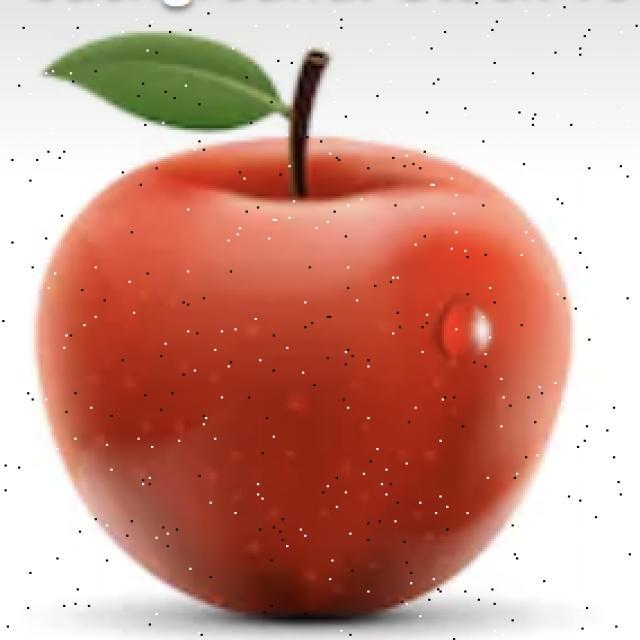Fresh Apple: (58, 138, 547, 600)
